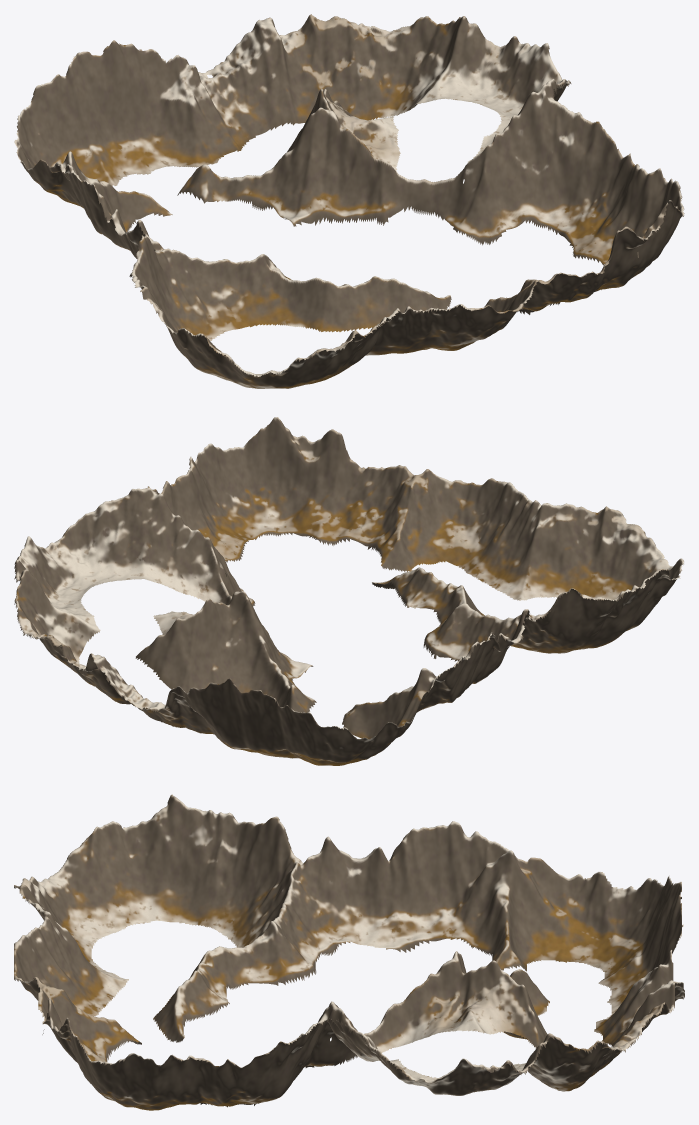
File: Terreno.glb
The picture shows the model from 3 angles, top to bottom: view 1: azimuth 30°, elevation 25°; view 2: azimuth 150°, elevation 25°; view 3: azimuth 270°, elevation 25°; orthographic projection. The views are drawn at different scales.
Parts seen in each view (by area): view 1: Terreno; view 2: Terreno; view 3: Terreno.
Part boxes in pixels (box(x1,y1,x2,y2)): Terreno: box(14, 14, 684, 388); Terreno: box(14, 417, 683, 765); Terreno: box(14, 794, 684, 1110).
Size of the model in its own units: 387 by 84.52 by 403.
Materials: 1 (1 with a texture image).
